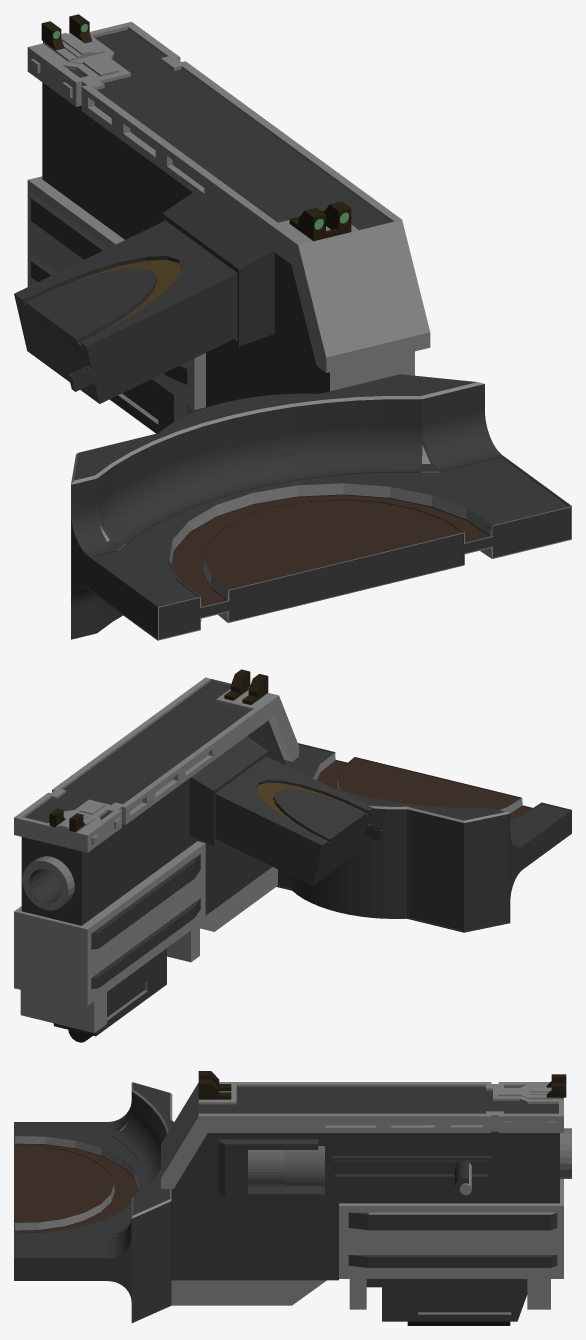
Rendered from tenmm_pistol.obj.
3 renders of one model, top to bottom at view 1: azimuth 30°, elevation 25°; view 2: azimuth 150°, elevation 25°; view 3: azimuth 270°, elevation 25°, orthographic. The views are drawn at different scales.
Parts seen in each view (by area): view 1: Holder1, gunBody1, Clip1, ClipHolder; view 2: gunBody1, Holder1, Clip1, ClipHolder; view 3: gunBody1, Holder1, Ejector1, Slider1, Handle1.
Boxes of the visible parts, x1,y1,x2,y2 form: Holder1: (71, 374, 571, 640); gunBody1: (27, 14, 430, 433); Clip1: (14, 220, 237, 403); ClipHolder: (162, 193, 274, 346); gunBody1: (14, 669, 298, 1042); Holder1: (276, 743, 571, 932); Clip1: (215, 756, 383, 885); ClipHolder: (189, 736, 268, 845); gunBody1: (161, 1071, 571, 1325); Holder1: (14, 1082, 173, 1322); Ejector1: (218, 1139, 324, 1196); Slider1: (332, 1156, 491, 1179); Handle1: (454, 1160, 471, 1198).
Size of the model in its own units: 0.057 by 0.044 by 0.0921.
